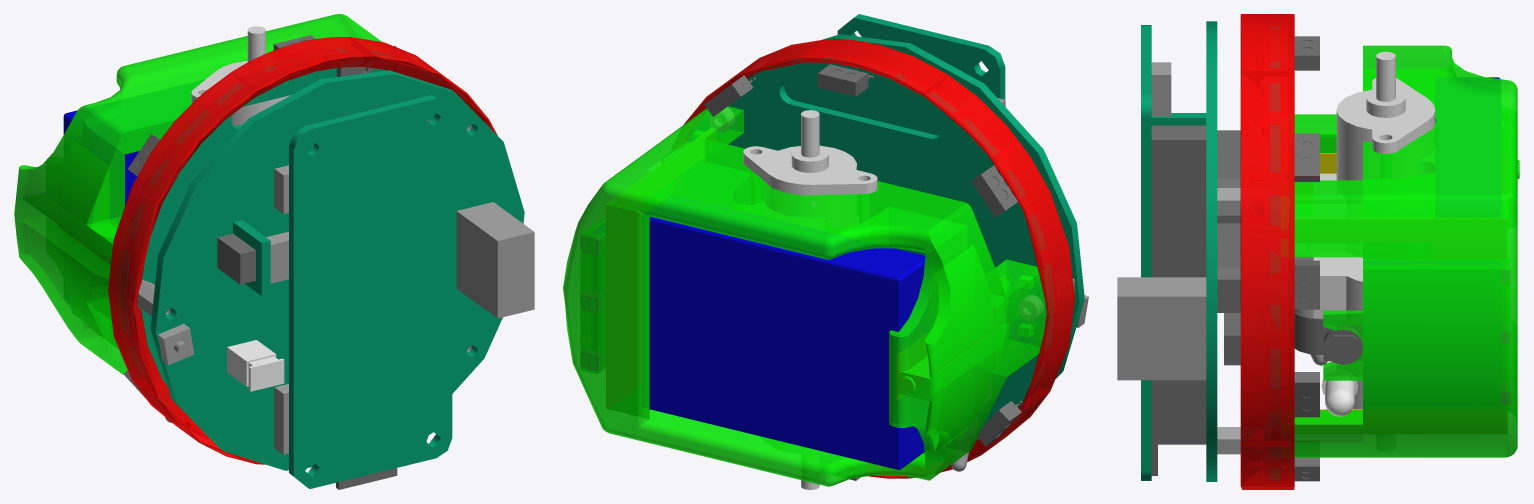
File: pipuck.glb
The picture shows the model from 3 angles, left to right: view 1: azimuth 30°, elevation 25°; view 2: azimuth 150°, elevation 25°; view 3: azimuth 270°, elevation 25°; orthographic projection. The views are drawn at different scales.
Visible parts, largest first — view 1: Node; view 2: Node; view 3: Node.
Boxes of the visible parts, x1,y1,x2,y2 form: Node: (14,14,534,489); Node: (563,14,1088,489); Node: (1117,14,1519,489).
Size of the model in its own units: 0.0724 by 0.0724 by 0.0611.
